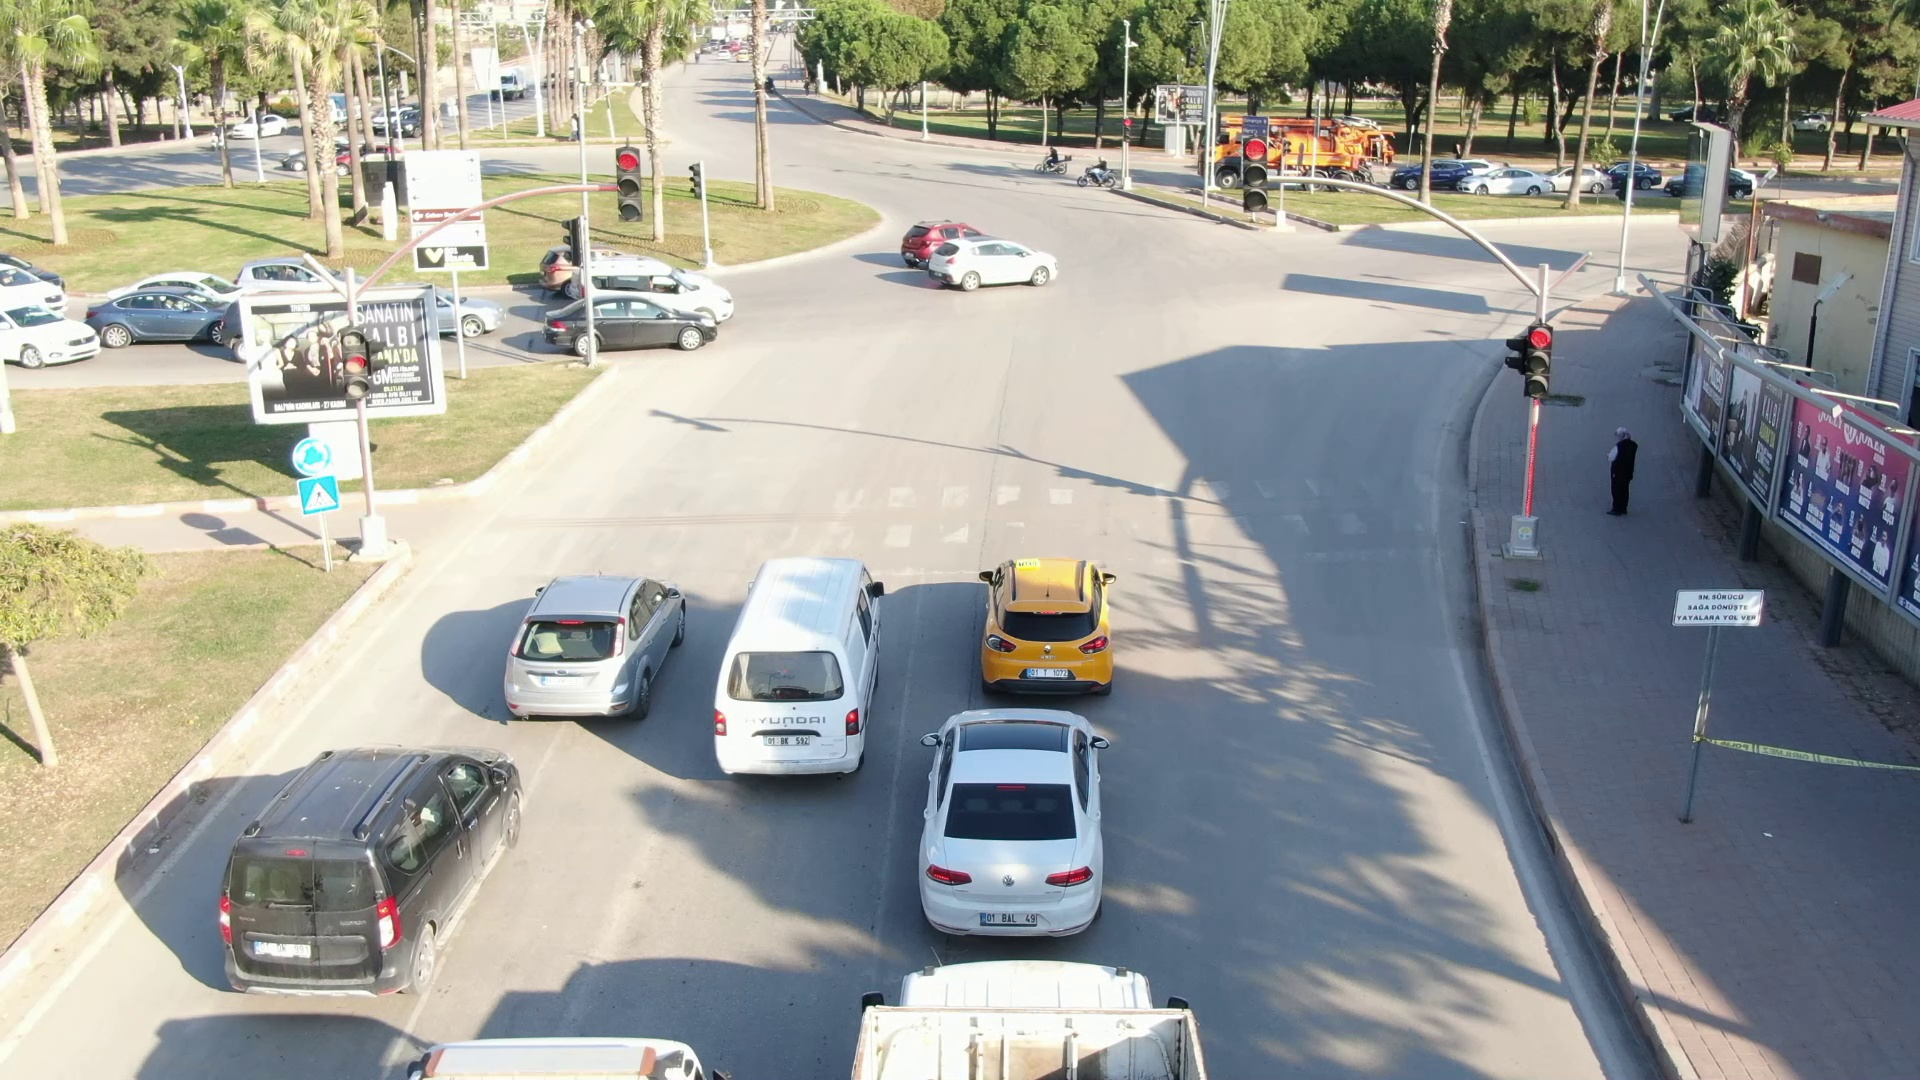car: (208, 749, 549, 1019), (888, 696, 1153, 955), (684, 525, 878, 782), (482, 563, 702, 741), (965, 545, 1153, 700), (545, 288, 729, 359), (915, 233, 1072, 296)
person: (1598, 423, 1647, 533)
